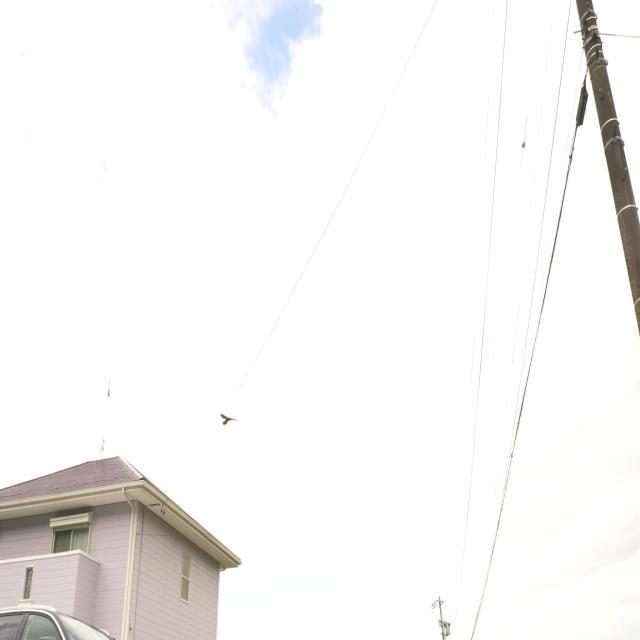Birds: (217, 396, 241, 441)
